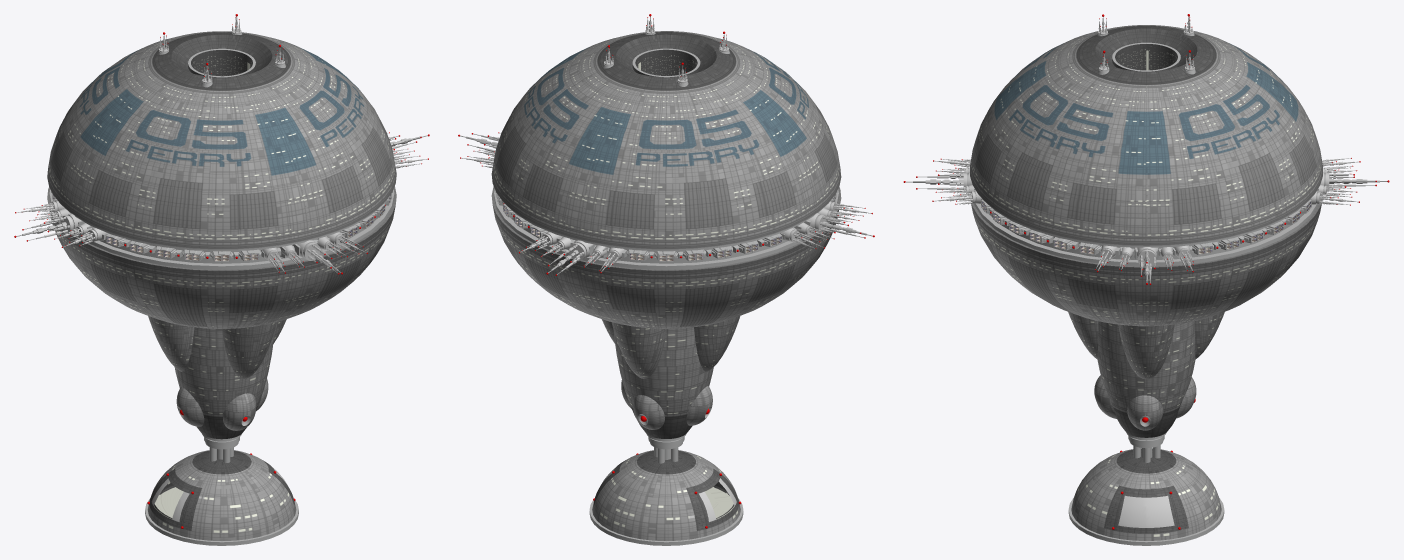
The model's file is perry.glb.
3 renders of one model, left to right at view 1: azimuth 30°, elevation 25°; view 2: azimuth 150°, elevation 25°; view 3: azimuth 270°, elevation 25°, orthographic.
Visible parts, largest first — view 1: perry_raw; view 2: perry_raw; view 3: perry_raw.
Part boxes in pixels (x1=…): perry_raw: x1=14, y1=14, x2=429, y2=545; perry_raw: x1=458, y1=14, x2=874, y2=545; perry_raw: x1=903, y1=14, x2=1389, y2=545.
Size of the model in its own units: 300 by 328 by 300.
Materials: 17 (13 with a texture image).
